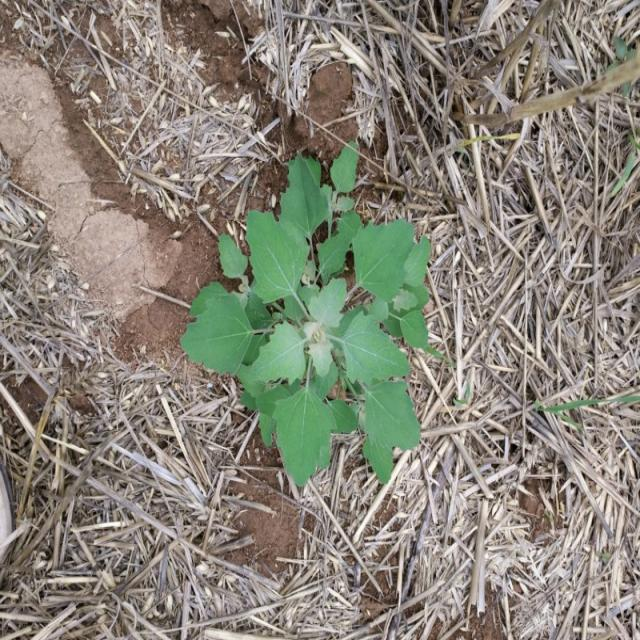ca: (186, 144, 431, 495)
